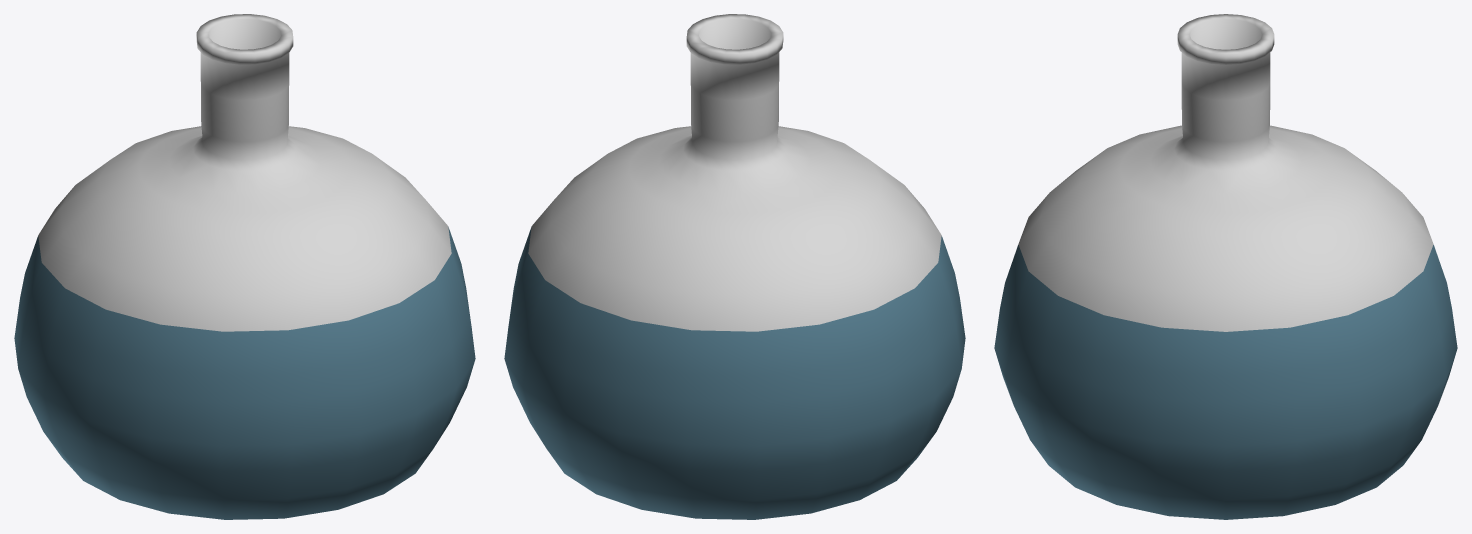
Rendered from Flask2.fbx.
3 views of the same model, side by side, from view 1: azimuth 30°, elevation 25°; view 2: azimuth 150°, elevation 25°; view 3: azimuth 270°, elevation 25° (orthographic).
Visible parts, largest first — view 1: Circle.001; view 2: Circle.001; view 3: Circle.001.
Boxes of the visible parts, bbox=[...] form: Circle.001: bbox=[14, 14, 475, 519]; Circle.001: bbox=[504, 14, 965, 519]; Circle.001: bbox=[994, 14, 1457, 519].
Bounding box in the file's own units: 0.1637 × 0.1622 × 0.1637.
